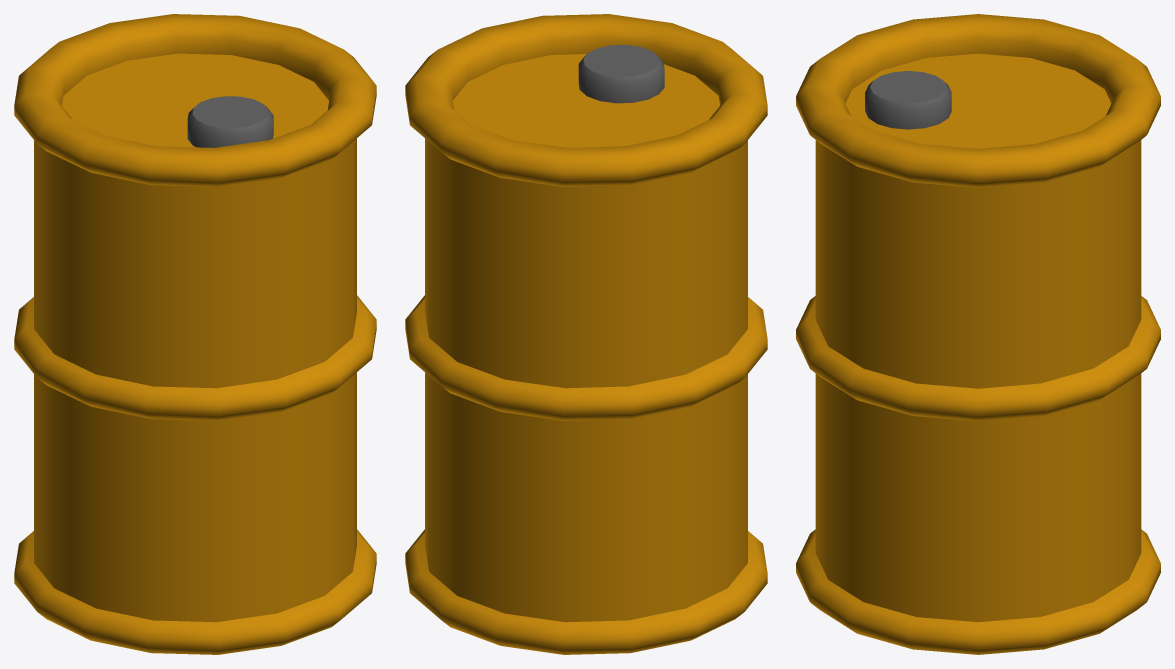
Rendered from SRA_Oil_Barrel_Single_Yellow.glb.
The picture shows the model from 3 angles, left to right: view 1: azimuth 30°, elevation 25°; view 2: azimuth 150°, elevation 25°; view 3: azimuth 270°, elevation 25°; orthographic projection.
Parts seen in each view (by area): view 1: Oil_Barrel_Single_Yellow; view 2: Oil_Barrel_Single_Yellow; view 3: Oil_Barrel_Single_Yellow.
Part boxes in pixels (x1,y1,x2,y2): Oil_Barrel_Single_Yellow: (14,14,376,654); Oil_Barrel_Single_Yellow: (405,14,767,654); Oil_Barrel_Single_Yellow: (796,14,1160,654).
Bounding box in the file's own units: 0.4 × 0.5999 × 0.4.
Materials: 1 (1 with a texture image).
